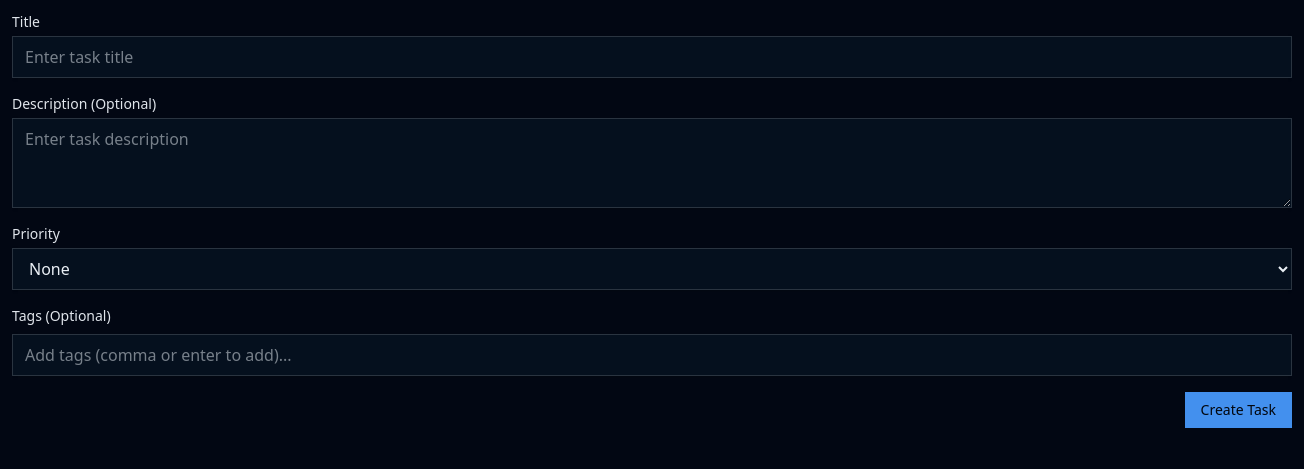
Test: TaskForm › validates required title field
Click the button "Create Task". click: click(1238, 410)
box: [1185, 392, 1292, 428]
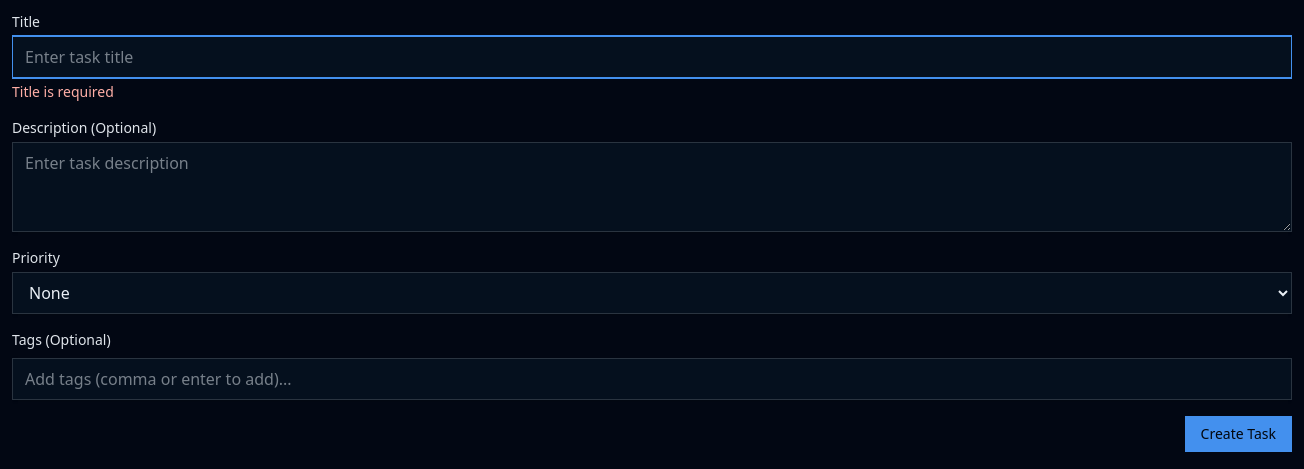
Expected: the text "Title is required" is shown, [12, 82, 114, 101]
